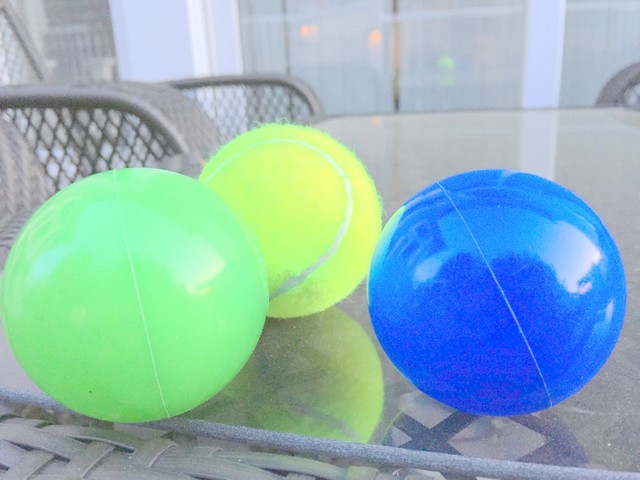ball: (367, 169, 628, 420)
